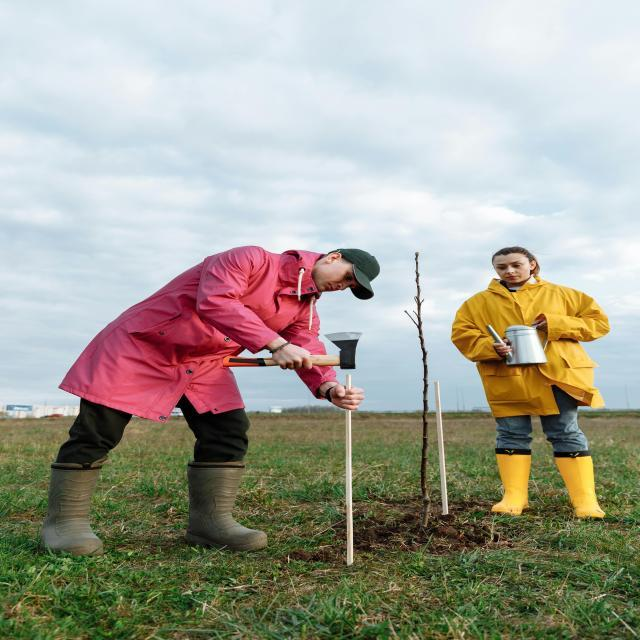Axe: (306, 332, 362, 369), (223, 357, 280, 368)
